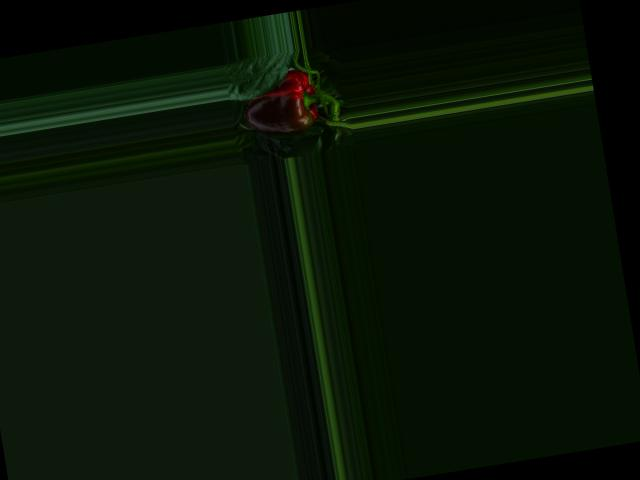bell_pepper: (234, 62, 332, 149)
